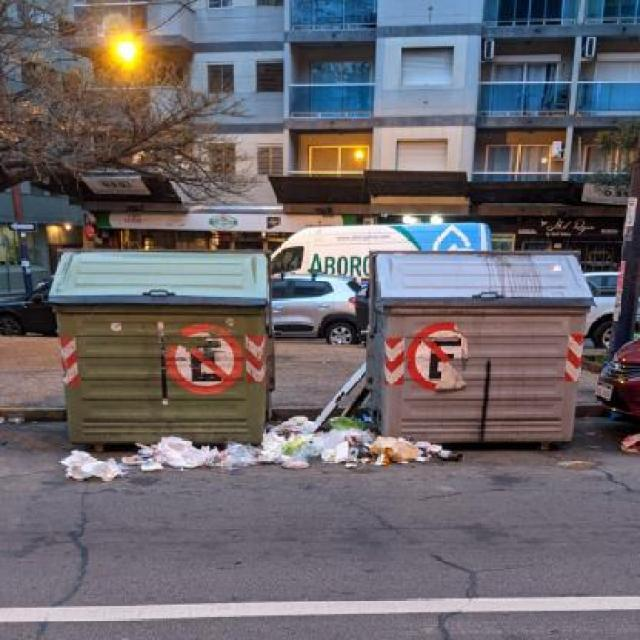garbage: (60, 377, 510, 498)
